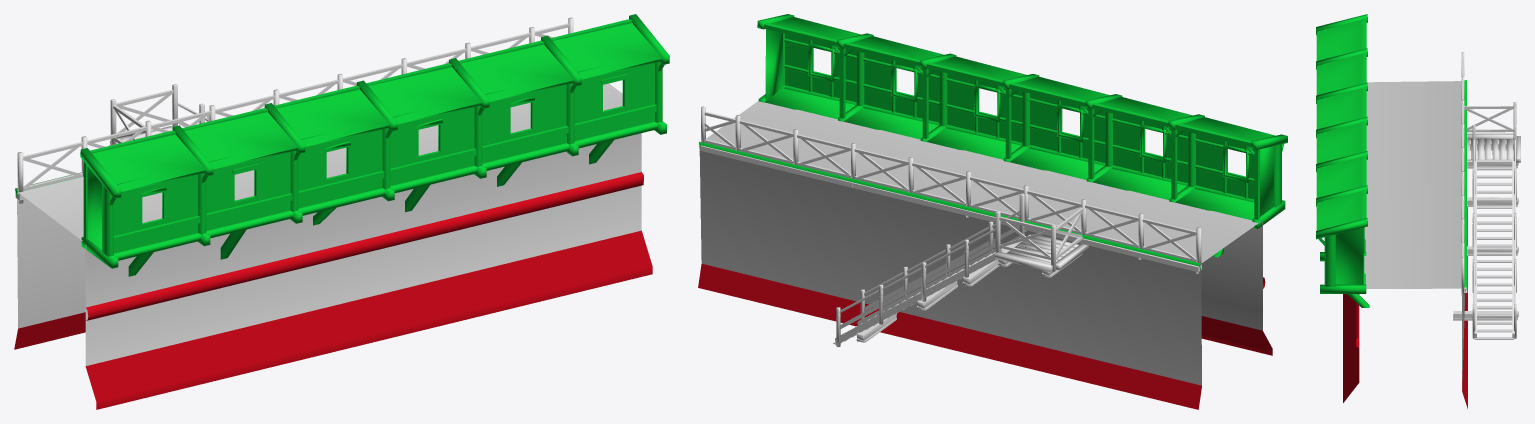
The model's file is Wall_2v2 (2).fbx.
3 renders of one model, left to right at view 1: azimuth 30°, elevation 25°; view 2: azimuth 150°, elevation 25°; view 3: azimuth 270°, elevation 25°, orthographic. The views are drawn at different scales.
Visible parts, largest first — view 1: Group_4.015, Group_4.028, Group_3.012, Group_3.013; view 2: Group_4.015, Group_4.028, Group_3.012, Group_3.013, Group_3.011; view 3: Group_4.015, Group_4.028, Group_3.013, Group_3.012.
Part boxes in pixels (bbox=[...]): Group_4.015: bbox=[14, 83, 652, 409]; Group_4.028: bbox=[80, 14, 669, 276]; Group_3.012: bbox=[15, 17, 573, 203]; Group_3.013: bbox=[109, 84, 209, 145]; Group_4.015: bbox=[698, 101, 1272, 409]; Group_4.028: bbox=[757, 14, 1287, 257]; Group_3.012: bbox=[700, 106, 1201, 274]; Group_3.013: bbox=[833, 193, 1088, 347]; Group_3.011: bbox=[1025, 190, 1083, 243]; Group_4.015: bbox=[1343, 80, 1467, 408]; Group_4.028: bbox=[1316, 14, 1369, 307]; Group_3.013: bbox=[1453, 102, 1520, 339]; Group_3.012: bbox=[1461, 52, 1467, 296].
Bounding box in the file's own units: 1800 × 768 × 753.
